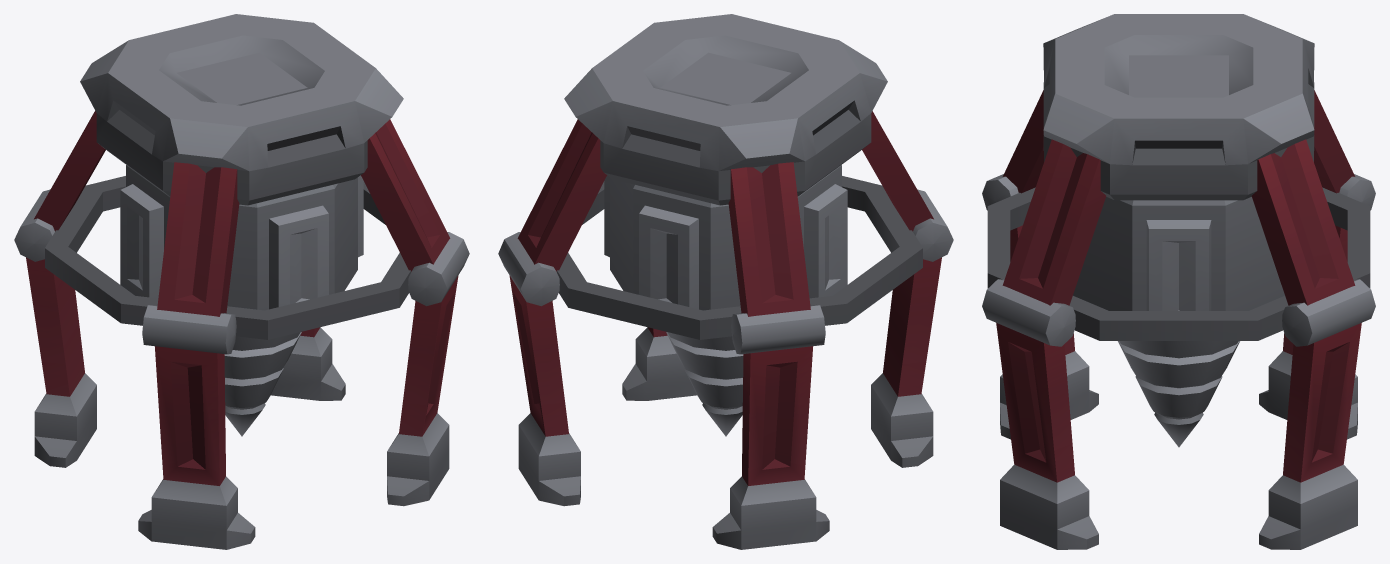
File: drill_structure.glb
3 views of the same model, side by side, from view 1: azimuth 30°, elevation 25°; view 2: azimuth 150°, elevation 25°; view 3: azimuth 270°, elevation 25° (orthographic). The views are drawn at different scales.
Parts seen in each view (by area): view 1: drill_structure, drill_module; view 2: drill_structure, drill_module; view 3: drill_structure, drill_module.
Part boxes in pixels (bbox=[...]): drill_structure: bbox=[14, 14, 469, 549]; drill_module: bbox=[120, 165, 363, 436]; drill_structure: bbox=[498, 14, 953, 549]; drill_module: bbox=[604, 165, 847, 436]; drill_structure: bbox=[982, 14, 1375, 549]; drill_module: bbox=[1073, 197, 1284, 447].
Bounding box in the file's own units: 1.75 × 2 × 1.75.
Materials: 1 (1 with a texture image).
